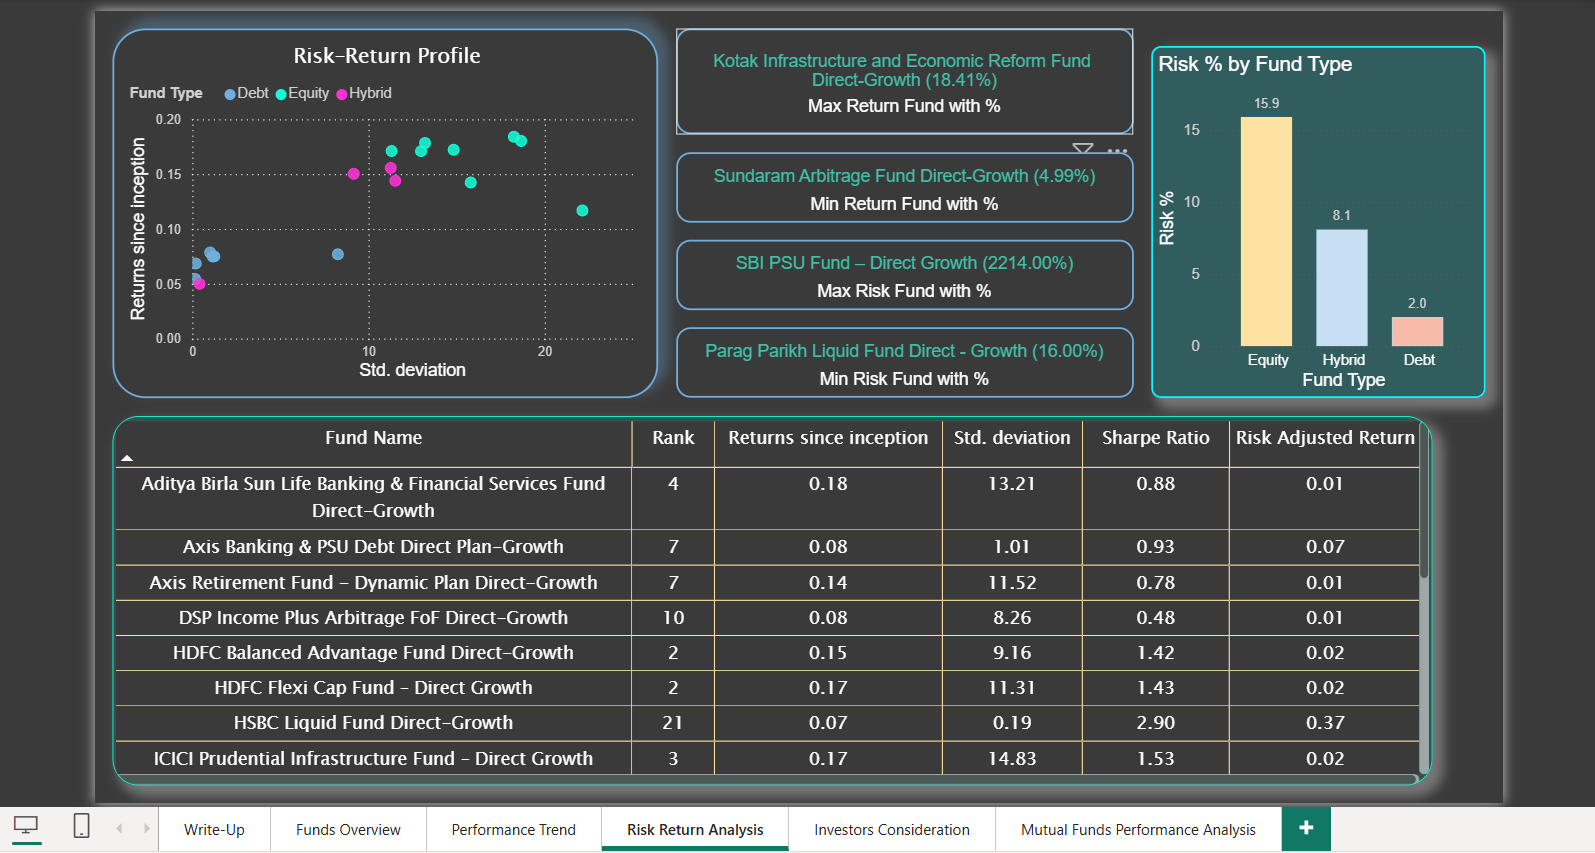

This screenshot's page, from the dashboard's own definition file:
{"tool":"powerbi","page":{"name":"Risk Return Analysis","canvas":[1280,720],"ordinal":3},"visuals":[{"type":"scatterChart","title":"Risk–Return Profile","fields":{"Series":["MF_Data.Fund Type"],"Category":["MF_Data.Fund Name"],"X":["MF_Data.Std. deviation"],"Y":["MF_Data.Returns since inception"]},"box":[16,16,496,336],"z":0},{"type":"tableEx","fields":{"Values":["MF_Data.Fund Name","MF_Data.Rank ","MF_Data.Returns since inception","MF_Data.Std. deviation","Sum(MF_Data.Sharpe)","MF_Data.Risk Adjusted Return"]},"box":[16,368,1200,336],"z":1000},{"type":"card","fields":{"Values":["MF_Data.Max Return %"]},"box":[528,16,416,96],"z":2000},{"type":"card","fields":{"Values":["MF_Data.Min Return %"]},"box":[528,128,416,64],"z":3000},{"type":"card","fields":{"Values":["MF_Data.Max Risk %"]},"box":[528,208,416,64],"z":4000},{"type":"card","fields":{"Values":["MF_Data.Min Risk %"]},"box":[528,288,416,64],"z":5000},{"type":"columnChart","fields":{"Y":["MF_Data.Risk %"],"Category":["MF_Data.Fund Type"]},"box":[960,32,304,320],"z":6000}]}

Visuals, with their boxes on the page's 1280x720 design canvas (x1, y1, x2, y2). These are canvas units, not pixel positions in the 1595x853 screenshot, which may show the page scaled, cropped or inside an application window:
"Risk–Return Profile" scatterChart: BBox(16, 16, 512, 352)
tableEx - MF_Data.Fund Name x MF_Data.Rank : BBox(16, 368, 1216, 704)
card - MF_Data.Max Return %: BBox(528, 16, 944, 112)
card - MF_Data.Min Return %: BBox(528, 128, 944, 192)
card - MF_Data.Max Risk %: BBox(528, 208, 944, 272)
card - MF_Data.Min Risk %: BBox(528, 288, 944, 352)
columnChart - MF_Data.Risk % x MF_Data.Fund Type: BBox(960, 32, 1264, 352)
